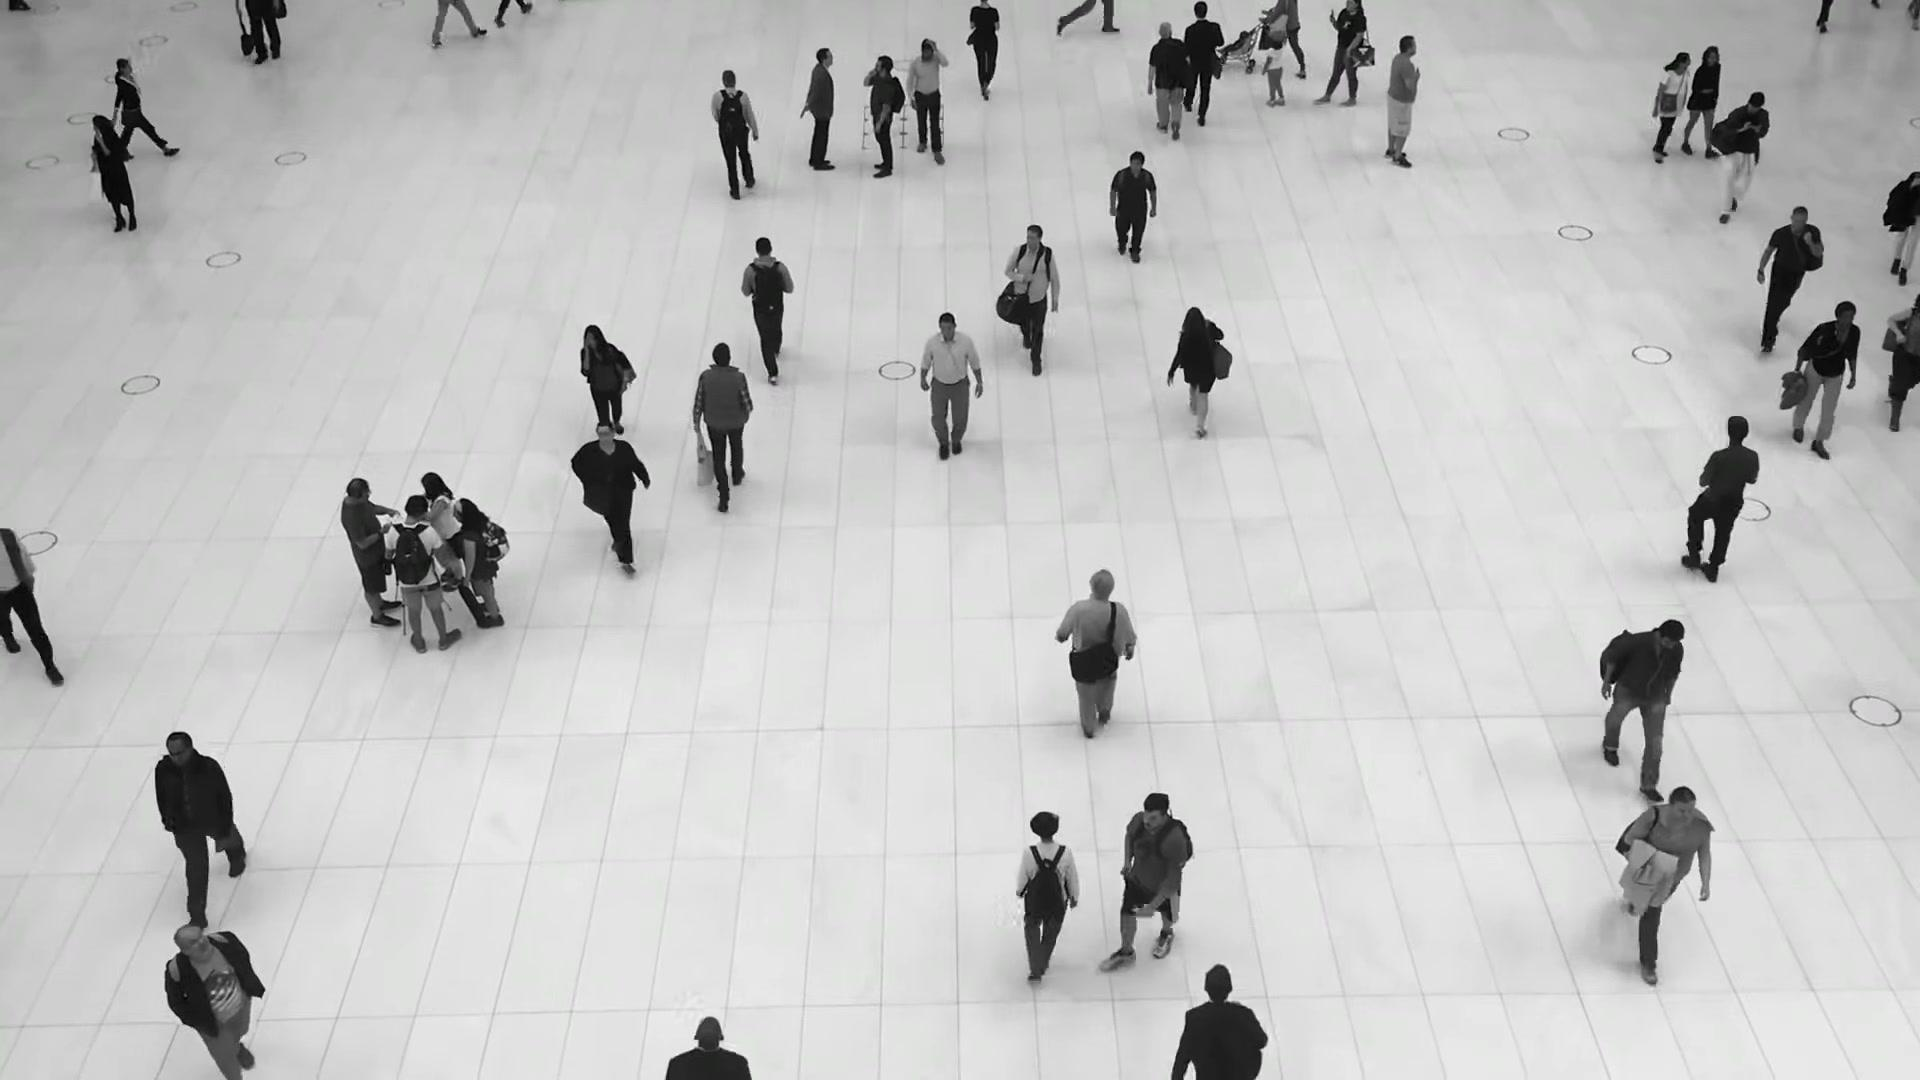person: (1619, 783, 1712, 969), (151, 730, 244, 916), (161, 921, 264, 1079), (1596, 620, 1687, 796), (1105, 795, 1190, 984), (1057, 571, 1137, 756), (1676, 416, 1757, 595), (1013, 813, 1082, 1001), (385, 495, 461, 653), (1786, 303, 1861, 464), (572, 421, 651, 571), (1171, 963, 1268, 1079), (1752, 206, 1823, 357), (692, 339, 753, 502), (918, 317, 981, 469), (340, 478, 402, 630), (1004, 222, 1058, 371), (1710, 93, 1769, 232), (742, 234, 794, 378), (704, 72, 757, 205), (452, 498, 504, 628), (1170, 304, 1224, 427), (1105, 154, 1156, 272), (578, 322, 633, 430), (90, 115, 137, 233), (1317, 0, 1367, 110), (907, 39, 949, 164), (1645, 53, 1690, 165), (1181, 1, 1223, 126), (1146, 22, 1190, 140), (1678, 47, 1722, 161), (862, 56, 903, 180), (1383, 34, 1420, 169), (420, 472, 460, 593), (799, 48, 836, 172), (113, 55, 162, 149), (1259, 0, 1307, 77), (968, 0, 1001, 106), (1261, 38, 1284, 107)
